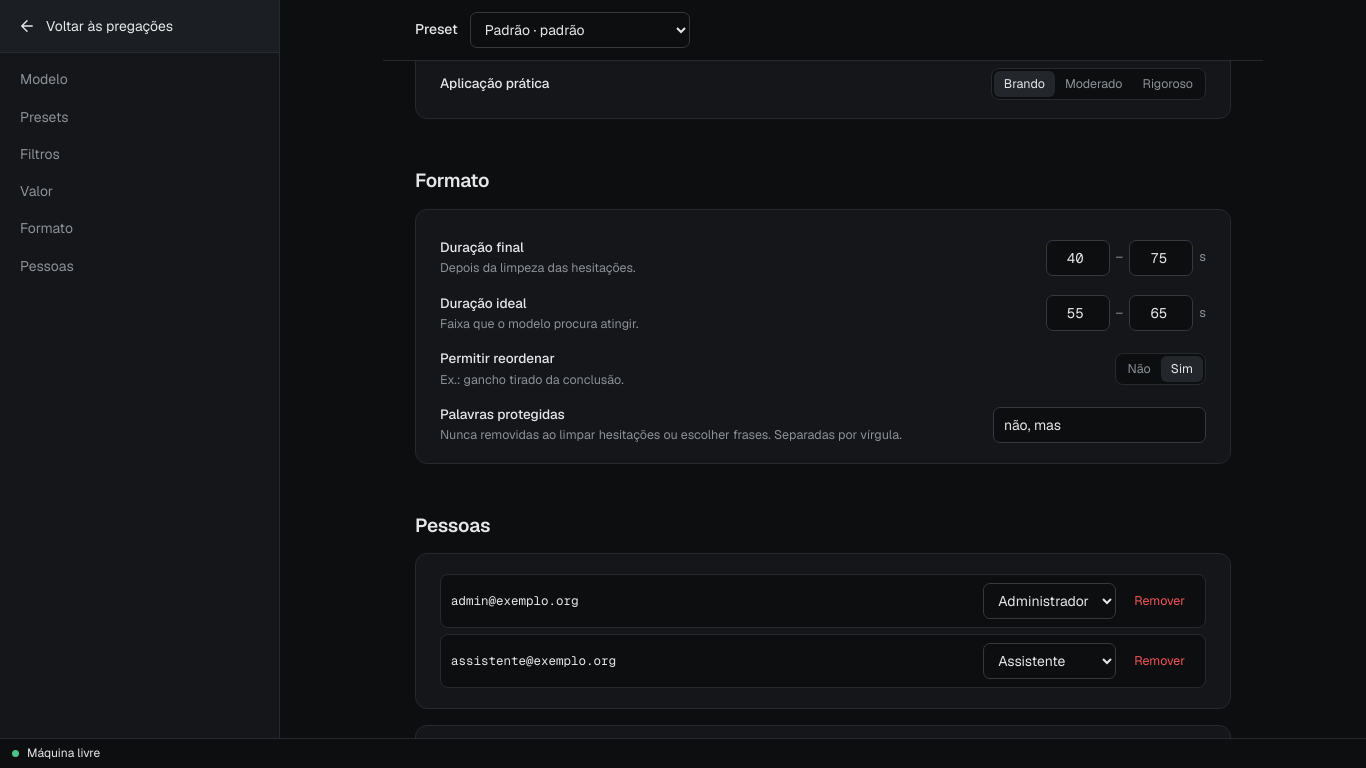
Test: saves Permitir reordenar as soon as it is picked
(page scrolled)
Click the button "Não". click: {"x": 1139, "y": 369}
box: [1118,356,1161,382]
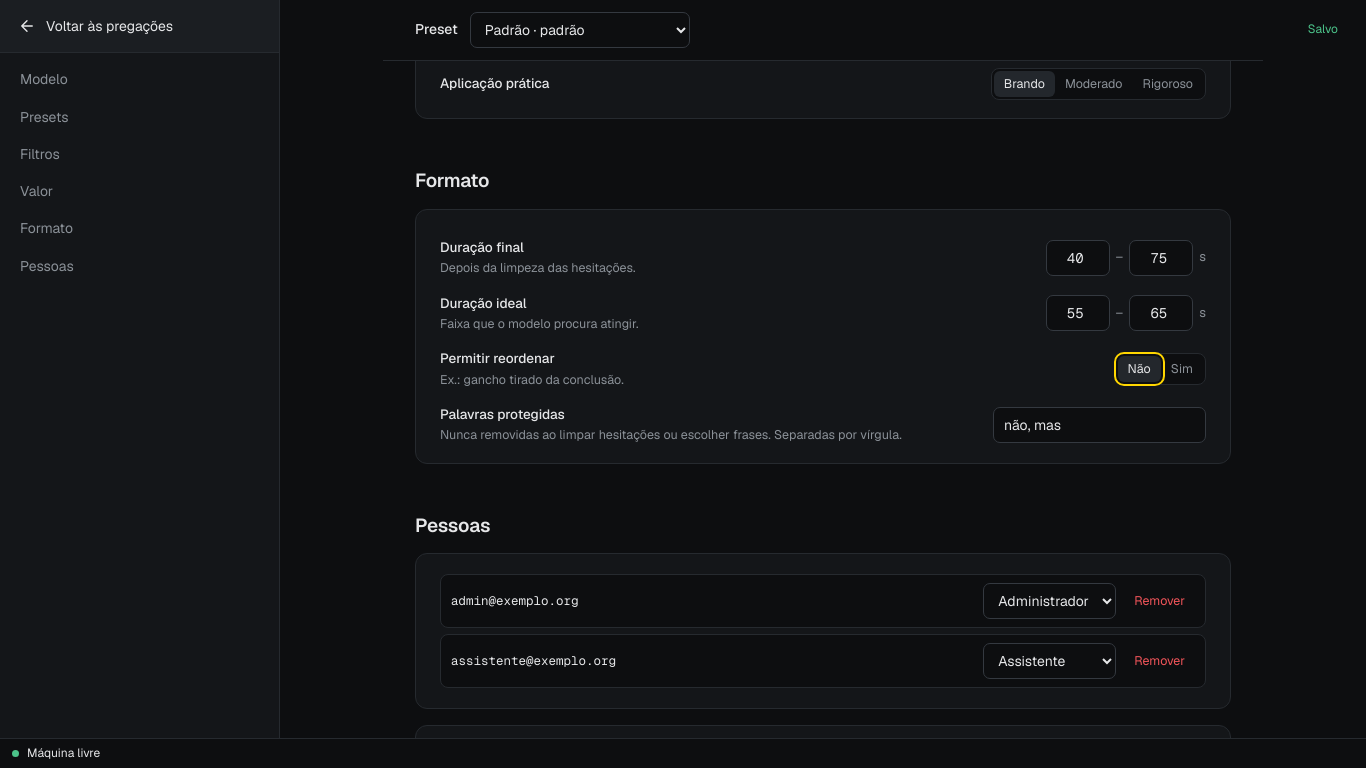
Result: the text "Salvo" is shown at [1308,21,1338,37]
